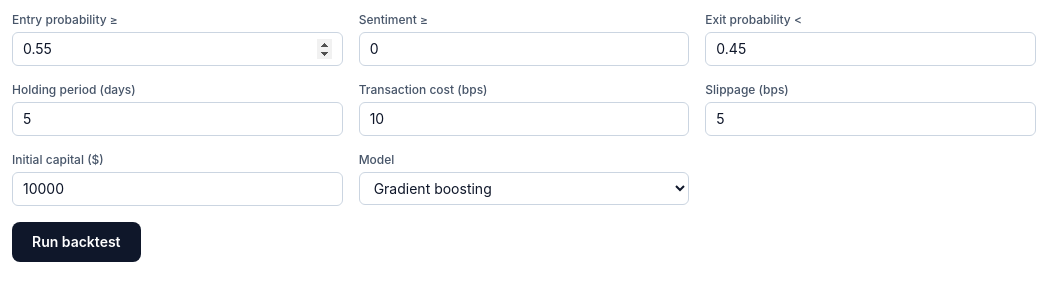
Test case: BacktestForm › rejects an exit threshold that is not lower than the entry threshold
Replace the text in the number field labelled "Exit probability <" with "0.6" at (871, 49), box [705,32,1036,66]
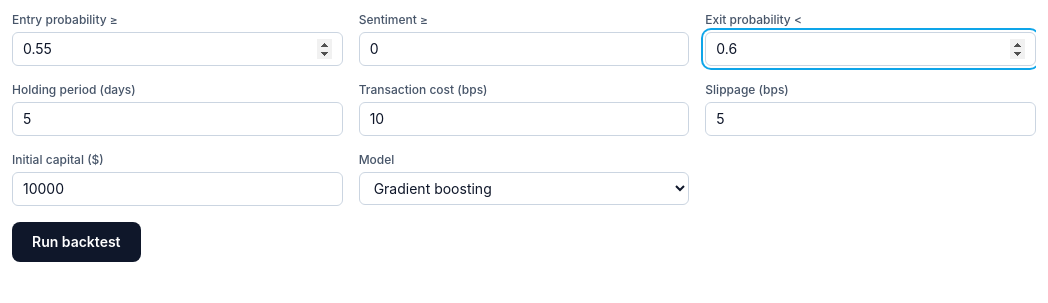
Click the button "Run backtest" at (76, 242), box [12,222,141,262]
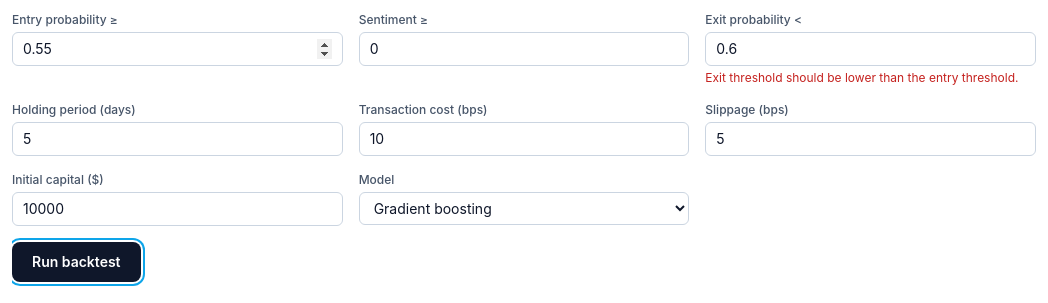
Now the message shows "lower than the entry threshold", box [705,70,1018,85]
